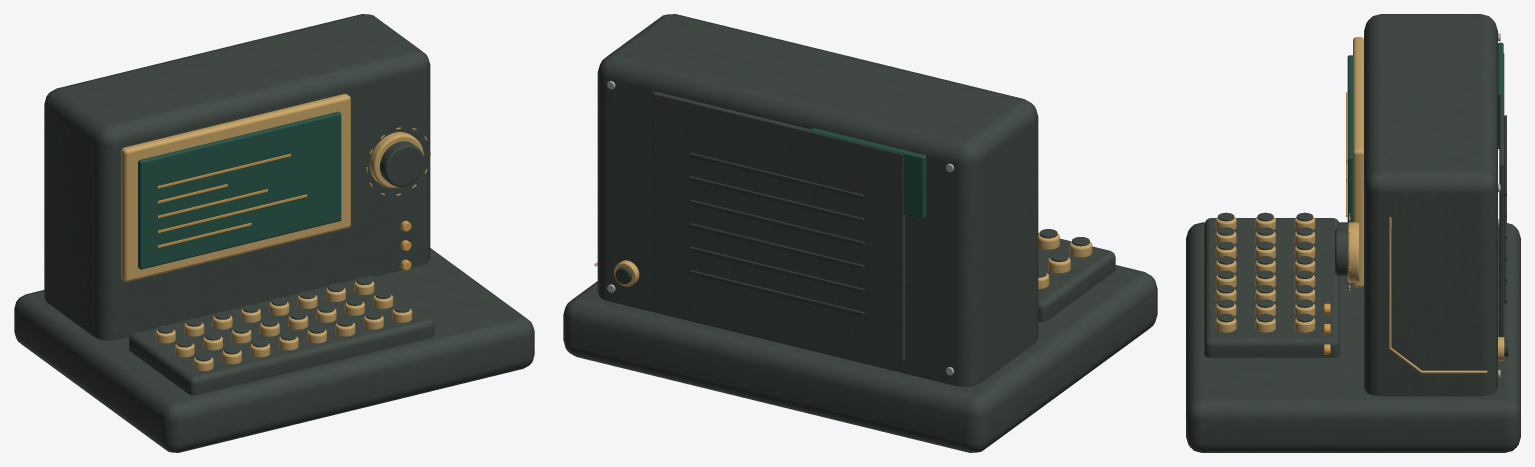
File: audio-console.glb
3 views of the same model, side by side, from view 1: azimuth 30°, elevation 25°; view 2: azimuth 150°, elevation 25°; view 3: azimuth 270°, elevation 25° (orthographic). The views are drawn at different scales.
Visible parts, largest first — view 1: Upper_Housing, Terminal_Base, file_browser, playback_panel, Screen_Brass_Bezel, Rotary_Dial, Rotary_Dial_Mount; view 2: Upper_Housing, Rear_Service_Panel, Terminal_Base, playback_panel, agent_panel, Rear_Service_Vent.001, Rear_Service_Vent.002, Rear_Service_Vent.003, Rear_Service_Vent.005, Rear_Service_Vent.004, Rear_Service_Vent; view 3: Upper_Housing, Terminal_Base, playback_panel, Screen_Brass_Bezel, Rear_Service_Panel, file_browser, Side_Deco_Accent, Rotary_Dial_Mount, Rotary_Dial, agent_panel.
Part boxes in pixels (left/top/right/bottom): Upper_Housing: left=44, top=14, right=430, bottom=340; Terminal_Base: left=14, top=248, right=534, bottom=452; file_browser: left=138, top=111, right=341, bottom=269; playback_panel: left=129, top=276, right=434, bottom=395; Screen_Brass_Bezel: left=121, top=94, right=350, bottom=281; Rotary_Dial: left=380, top=141, right=424, bottom=186; Rotary_Dial_Mount: left=369, top=132, right=423, bottom=188; Upper_Housing: left=597, top=14, right=1038, bottom=386; Rear_Service_Panel: left=652, top=91, right=905, bottom=361; Terminal_Base: left=563, top=265, right=1157, bottom=452; playback_panel: left=1038, top=233, right=1115, bottom=321; agent_panel: left=810, top=128, right=926, bottom=218; Rear_Service_Vent.001: left=689, top=246, right=864, bottom=293; Rear_Service_Vent.002: left=689, top=223, right=864, bottom=269; Rear_Service_Vent.003: left=689, top=199, right=864, bottom=246; Rear_Service_Vent.005: left=689, top=153, right=864, bottom=199; Rear_Service_Vent.004: left=689, top=176, right=864, bottom=222; Rear_Service_Vent: left=689, top=270, right=864, bottom=316; Upper_Housing: left=1364, top=14, right=1497, bottom=396; Terminal_Base: left=1186, top=222, right=1520, bottom=452; playback_panel: left=1204, top=218, right=1339, bottom=357; Screen_Brass_Bezel: left=1353, top=37, right=1363, bottom=287; Rear_Service_Panel: left=1499, top=53, right=1504, bottom=336; file_browser: left=1347, top=55, right=1352, bottom=223; Side_Deco_Accent: left=1389, top=216, right=1487, bottom=373; Rotary_Dial_Mount: left=1347, top=222, right=1359, bottom=282; Rotary_Dial: left=1335, top=228, right=1347, bottom=275; agent_panel: left=1497, top=42, right=1503, bottom=148.
Bounding box in the file's own units: 0.34 × 0.2325 × 0.255.
Materials: 6 (2 with a texture image).
